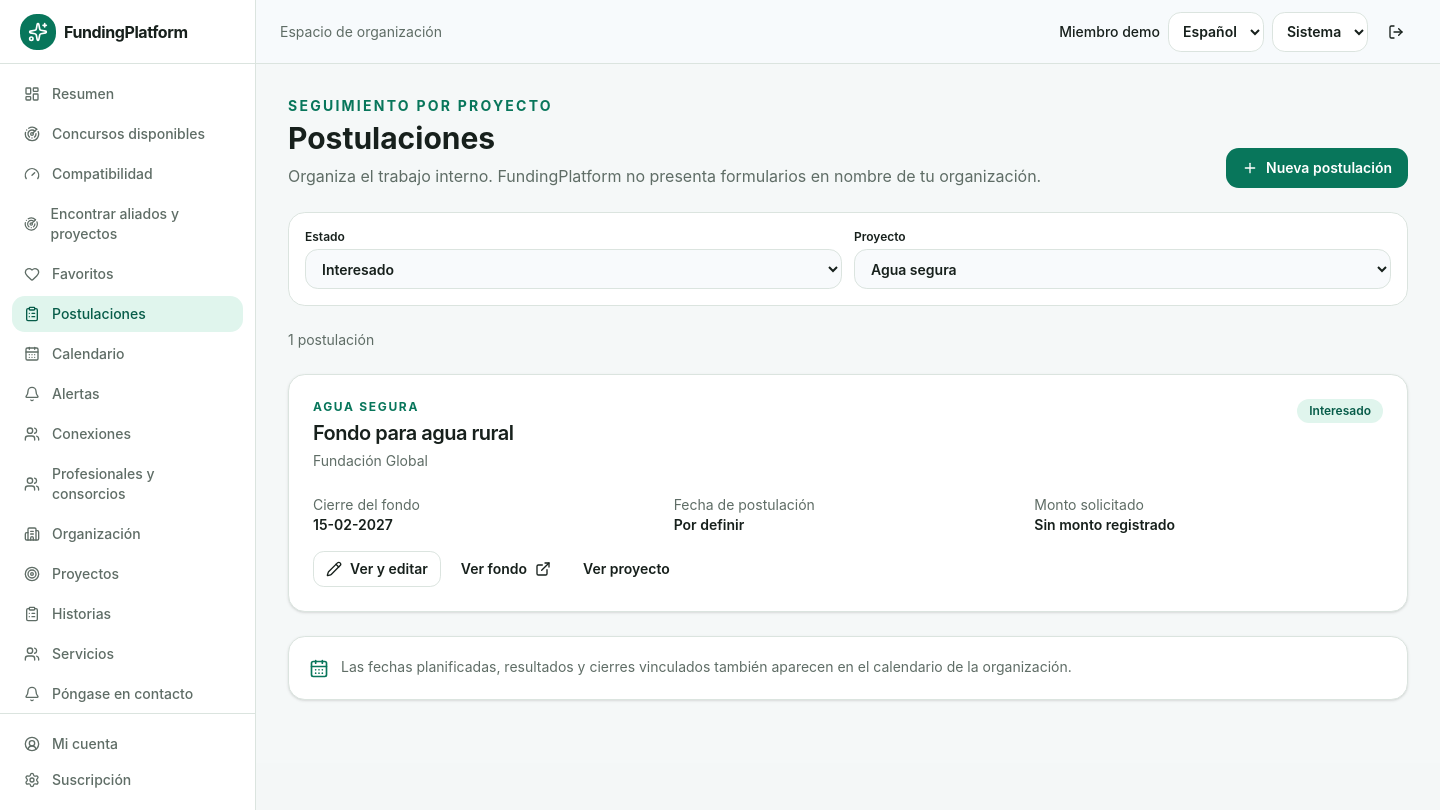
it: postulaciones de la organización › envía filtros por URL y recupera de forma segura un conflicto If-Match
Click the button "Ver y editar".
click(377, 569)  # box left=313, top=551, right=441, bottom=587
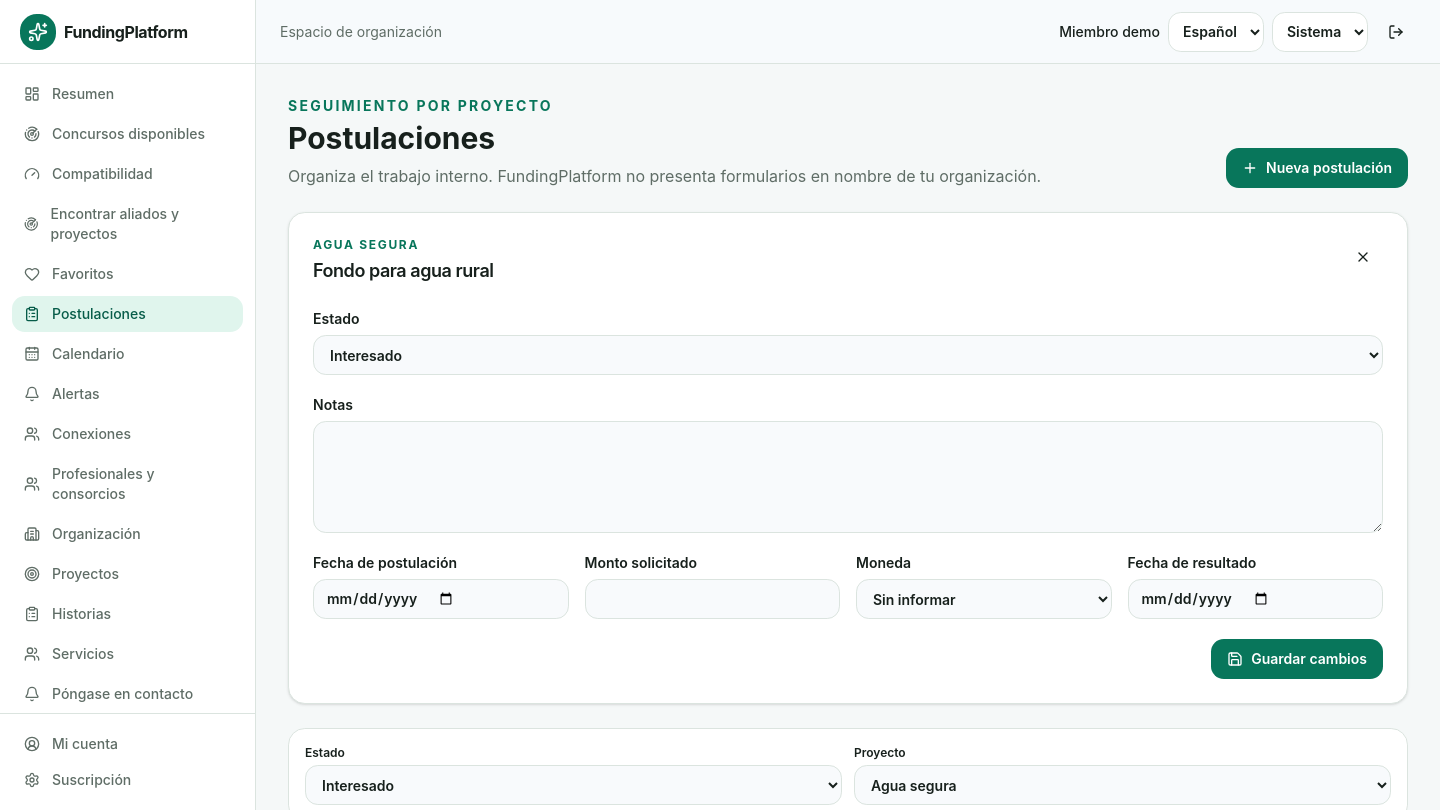
Select "Preparando postulación" in the dropdown named "Estado de la postulación" at (848, 355), box left=313, top=335, right=1383, bottom=375
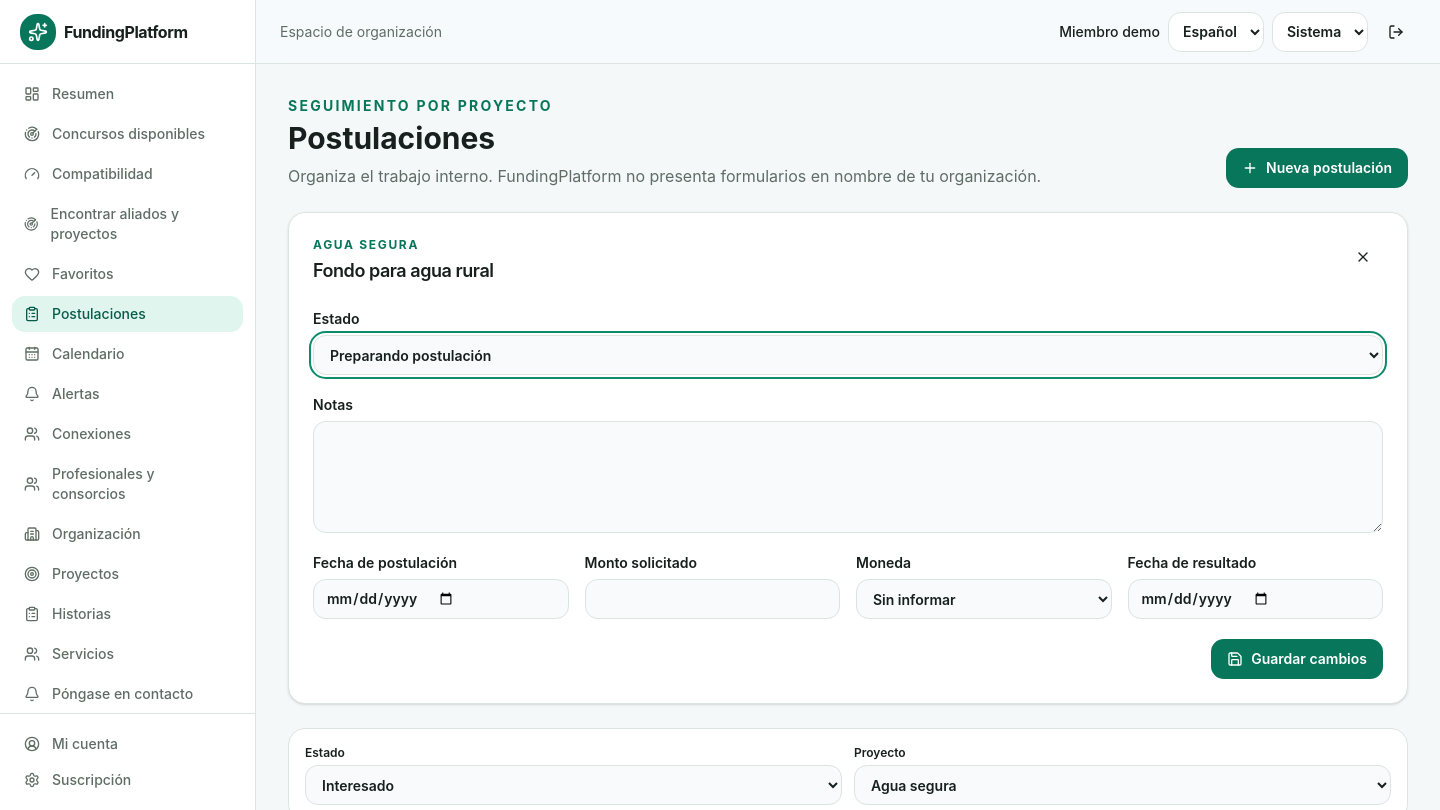
Click the button "Guardar cambios".
click(1297, 659)  # box left=1211, top=639, right=1383, bottom=679
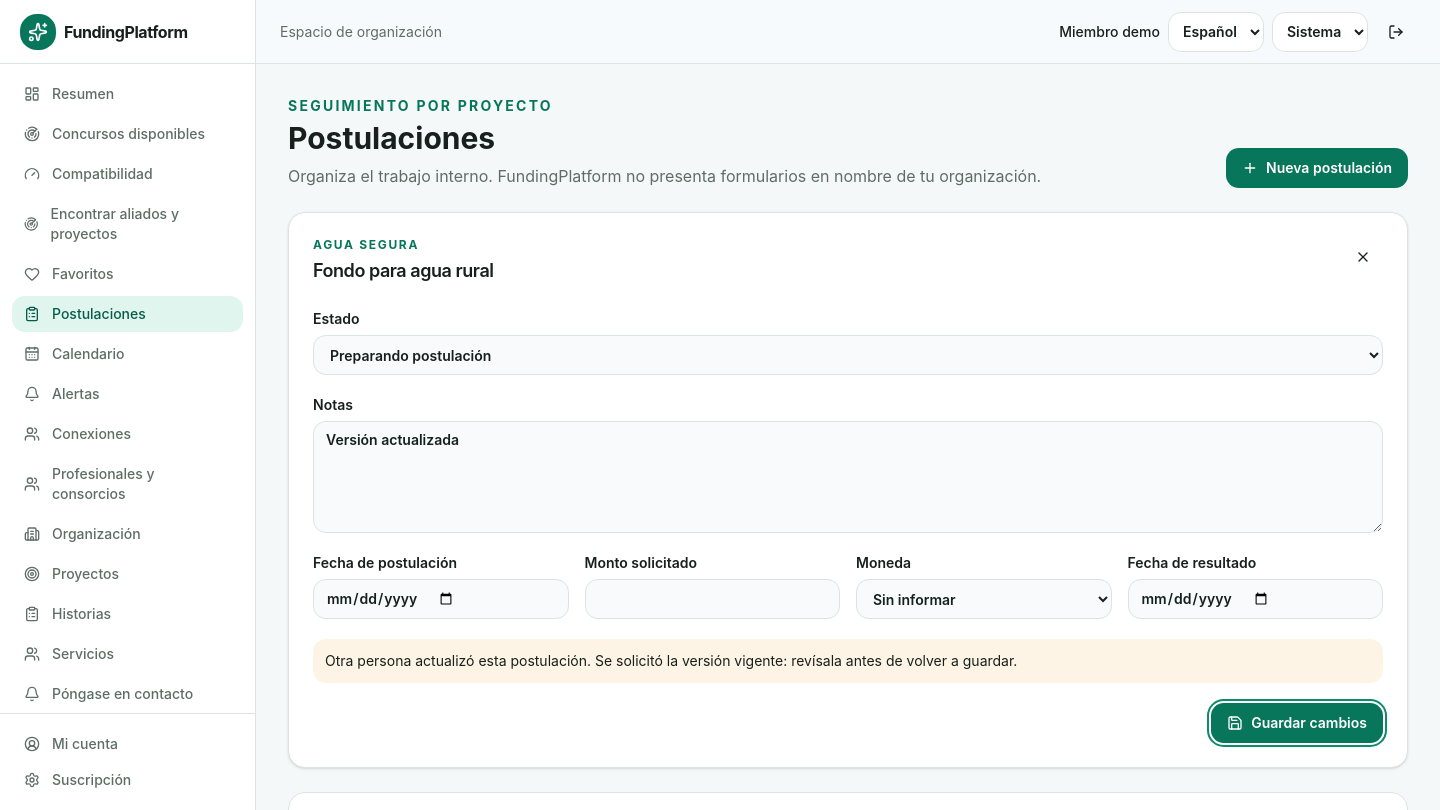
Now the text "Otra persona actualizó esta postulación" is shown, box left=325, top=652, right=1017, bottom=669
Now the text box named "Notas de la postulación" holds "Versión actualizada", box left=313, top=421, right=1383, bottom=533
